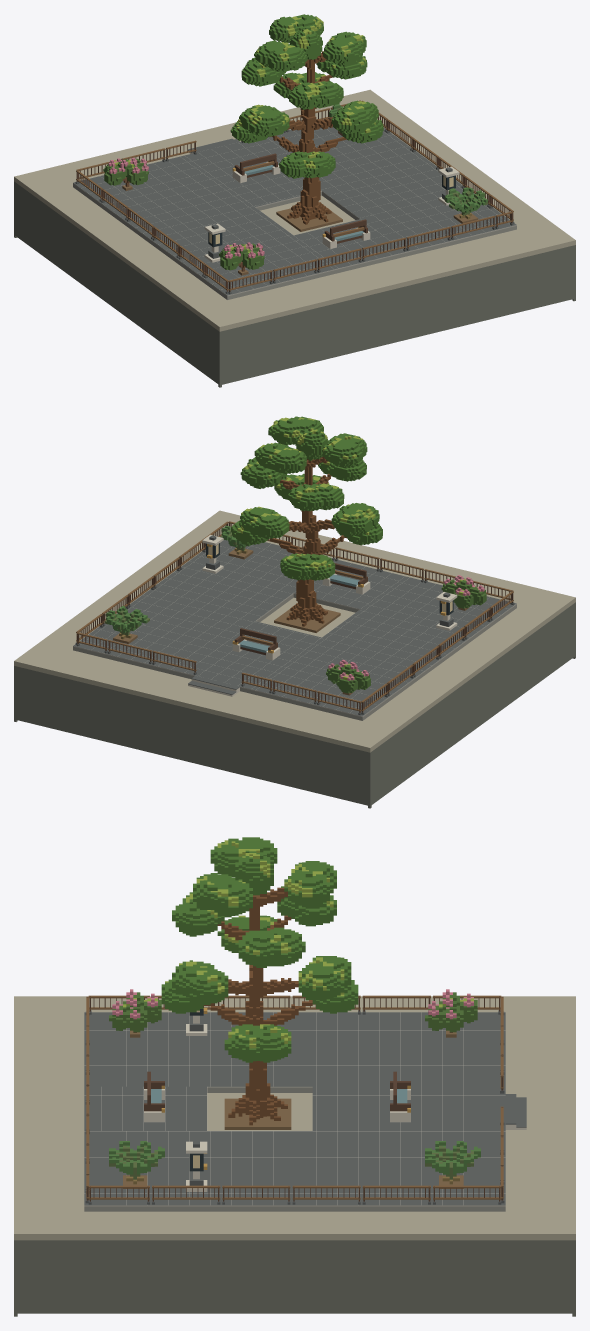
Rendered from visual-far.glb.
3 views of the same model, one above another, from view 1: azimuth 30°, elevation 25°; view 2: azimuth 150°, elevation 25°; view 3: azimuth 270°, elevation 25° (orthographic). The views are drawn at different scales.
Parts seen in each view (by area): view 1: 连续岩土实体与最小原生岩块, 分层实心台基与独立石铺面, 既有量化乔木树干与错层冠母版, 分枝灌木与花灌木母版 (×2), 公共长椅与石凳母版 (×2), 蕨类与阔叶地被簇母版, 贴地独立根域与表土, 独立景观灯杆与石灯母版; view 2: 连续岩土实体与最小原生岩块, 分层实心台基与独立石铺面, 既有量化乔木树干与错层冠母版, 分枝灌木与花灌木母版 (×2), 公共长椅与石凳母版 (×2), 独立景观灯杆与石灯母版 (×2), 蕨类与阔叶地被簇母版, 贴地独立根域与表土, 实体山步与独立踏面; view 3: 连续岩土实体与最小原生岩块, 分层实心台基与独立石铺面, 既有量化乔木树干与错层冠母版, 廊边木栏与实际竖梃 (×7), 分枝灌木与花灌木母版 (×2), 蕨类与阔叶地被簇母版 (×2), 公共长椅与石凳母版 (×2), 贴地独立根域与表土, 独立景观灯杆与石灯母版, 实体山步与独立踏面.
Boxes of the visible parts, x1,y1,x2,y2 form: 连续岩土实体与最小原生岩块: (14, 89, 575, 387); 分层实心台基与独立石铺面: (73, 126, 516, 299); 既有量化乔木树干与错层冠母版: (230, 14, 383, 224); 分枝灌木与花灌木母版 (×2): (103, 157, 264, 271); 公共长椅与石凳母版 (×2): (232, 153, 370, 248); 蕨类与阔叶地被簇母版: (444, 187, 487, 219); 贴地独立根域与表土: (276, 201, 342, 231); 独立景观灯杆与石灯母版: (204, 223, 225, 262); 连续岩土实体与最小原生岩块: (14, 510, 575, 808); 分层实心台基与独立石铺面: (73, 540, 516, 720); 既有量化乔木树干与错层冠母版: (231, 416, 382, 626); 分枝灌木与花灌木母版 (×2): (326, 575, 486, 693); 公共长椅与石凳母版 (×2): (232, 563, 370, 660); 独立景观灯杆与石灯母版 (×2): (202, 534, 457, 630); 蕨类与阔叶地被簇母版: (104, 606, 149, 639); 贴地独立根域与表土: (274, 609, 340, 632); 实体山步与独立踏面: (188, 675, 239, 696); 连续岩土实体与最小原生岩块: (14, 996, 575, 1316); 分层实心台基与独立石铺面: (84, 1012, 505, 1211); 既有量化乔木树干与错层冠母版: (161, 837, 358, 1125); 廊边木栏与实际竖梃 (×7): (88, 995, 501, 1204); 分枝灌木与花灌木母版 (×2): (109, 989, 477, 1032); 蕨类与阔叶地被簇母版 (×2): (109, 1141, 480, 1184); 公共长椅与石凳母版 (×2): (144, 1071, 410, 1122); 贴地独立根域与表土: (224, 1098, 291, 1129); 独立景观灯杆与石灯母版: (186, 1141, 207, 1191); 实体山步与独立踏面: (505, 1094, 526, 1129).
Size of the model in its own units: 32 by 21.4 by 32.
23 materials, 23 textured.
